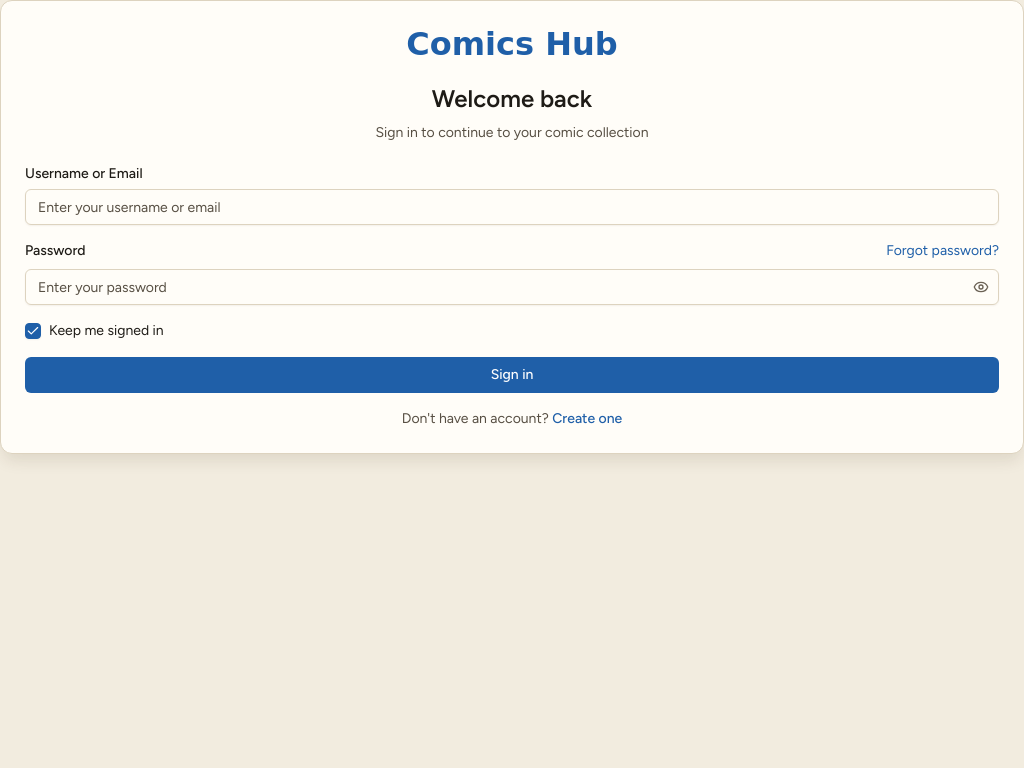
Test case: LoginPage › shows network error message when fetch throws
In the field labelled "Username or Email": (512, 207) x1=25 y1=189 x2=999 y2=225, type "testuser"
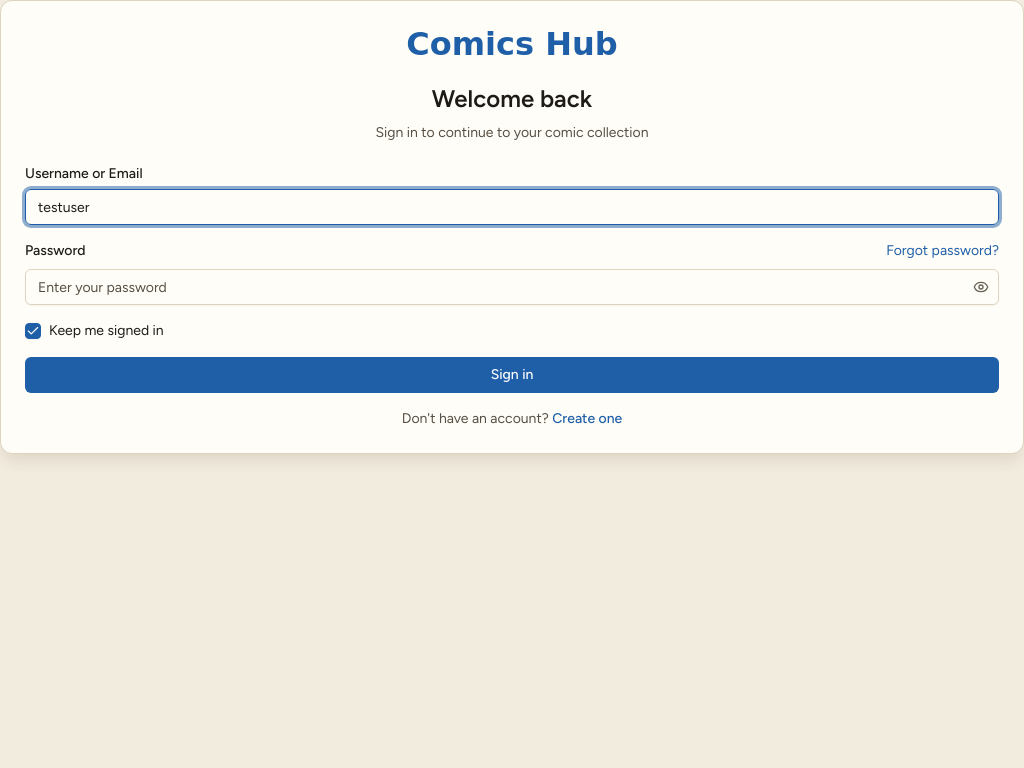
In the password field labelled "Password": (512, 287) x1=25 y1=269 x2=999 y2=305, type "Password1!"
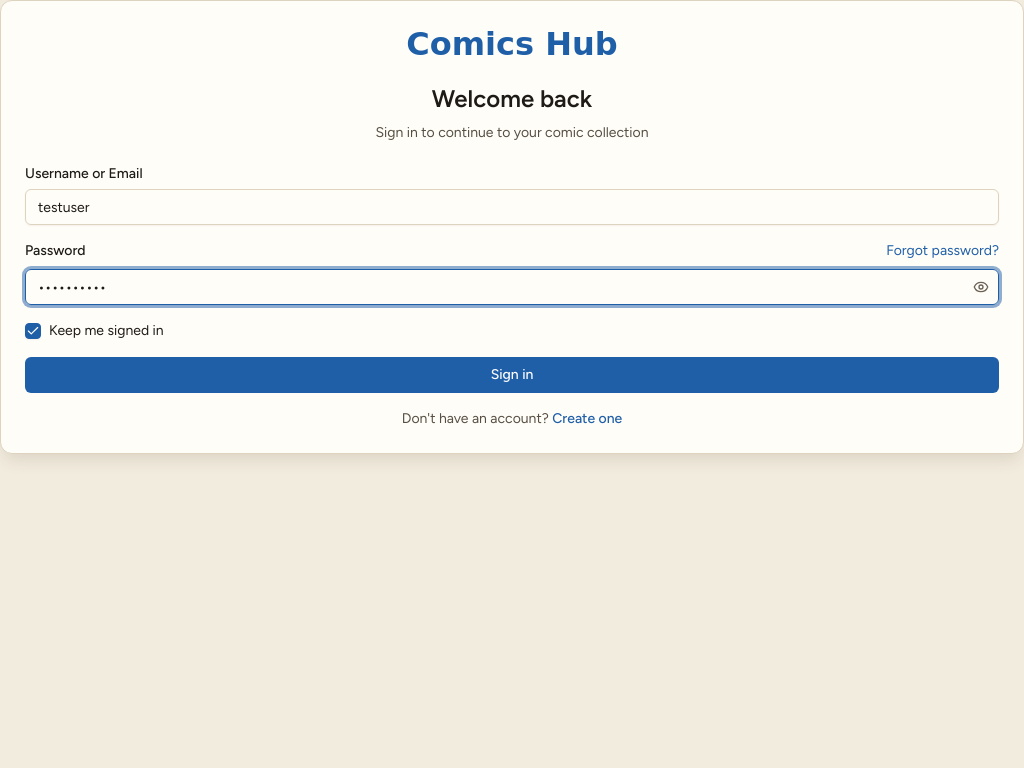
Click the button "Sign in": (512, 375) x1=25 y1=357 x2=999 y2=393
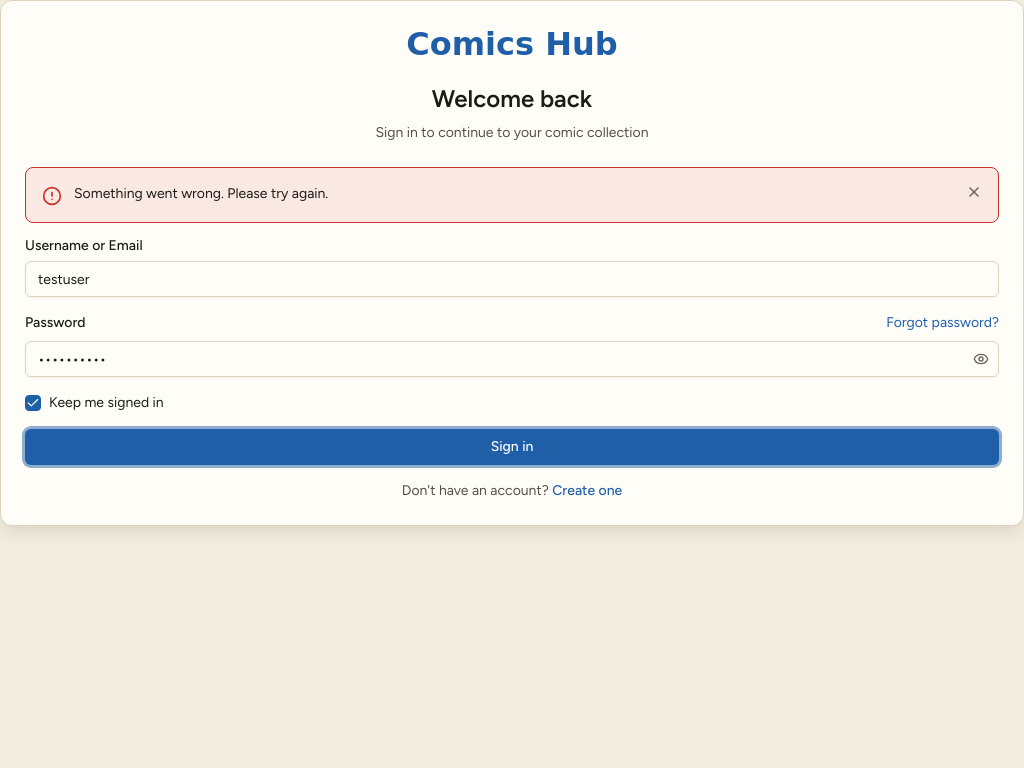
Expected: the text "Something went wrong. Please try again." is shown, x1=74 y1=185 x2=328 y2=202
